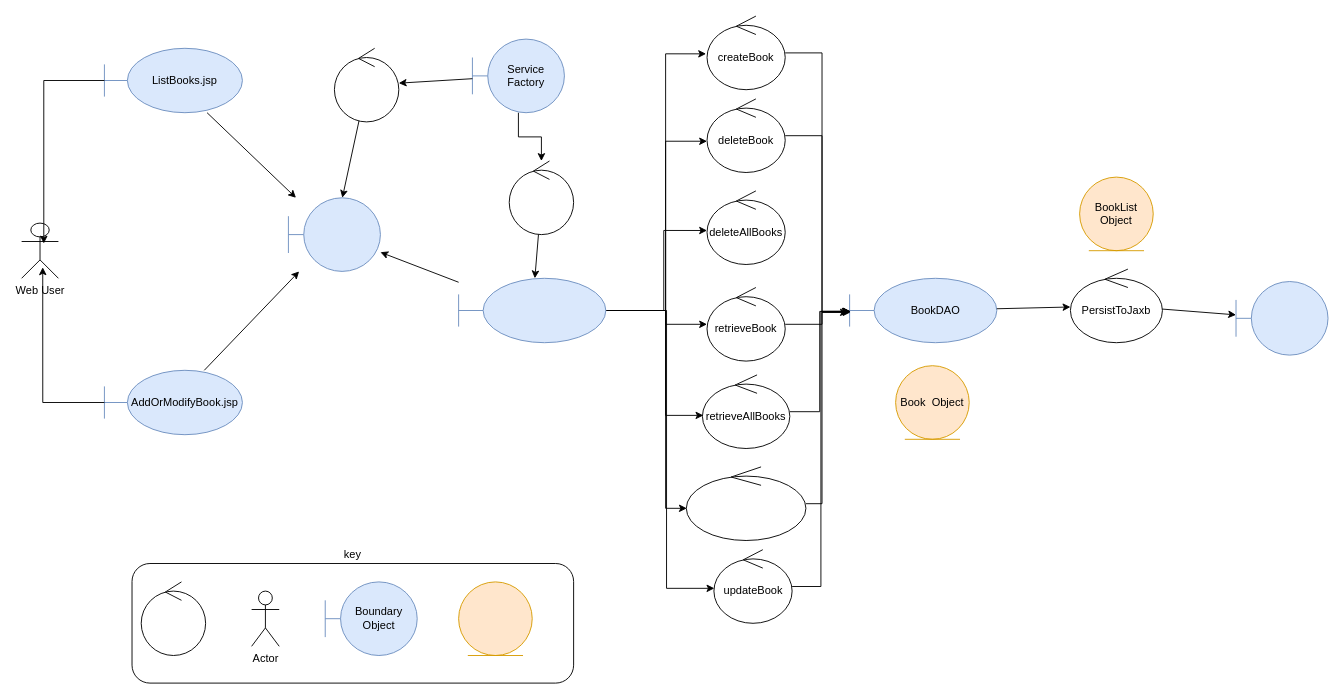
The diagram is 1344 pixels wide and 699 high, and some of its shapes have lost their labels. Here are the shapes that lost their labels. From the top down, the box of each, then its label:
(334, 47, 399, 122): Get Facade
(508, 160, 574, 235): Create Facade
(288, 197, 380, 271): Session
(458, 277, 606, 343): ServiceFacade
(1235, 281, 1328, 355): Persistance File
(685, 466, 806, 540): retrieveMatchingBooks
(140, 581, 206, 656): Control Object
(458, 581, 532, 656): Entity Object
